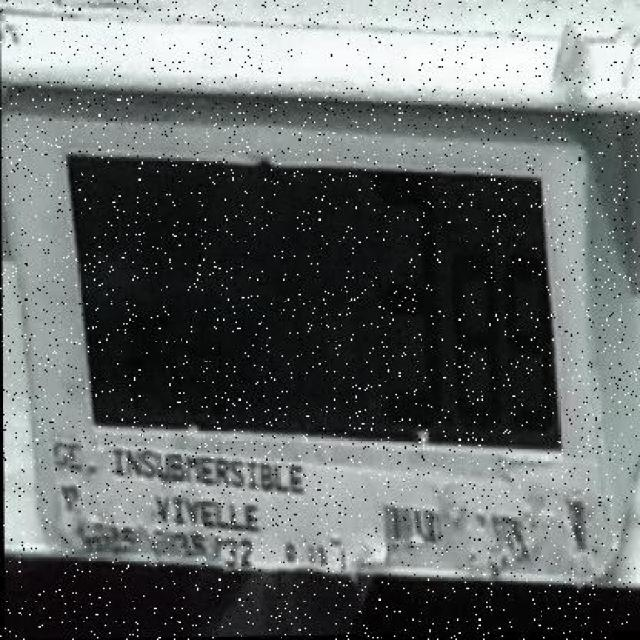display: (68, 155, 565, 457)
gauge: (0, 0, 640, 588)
